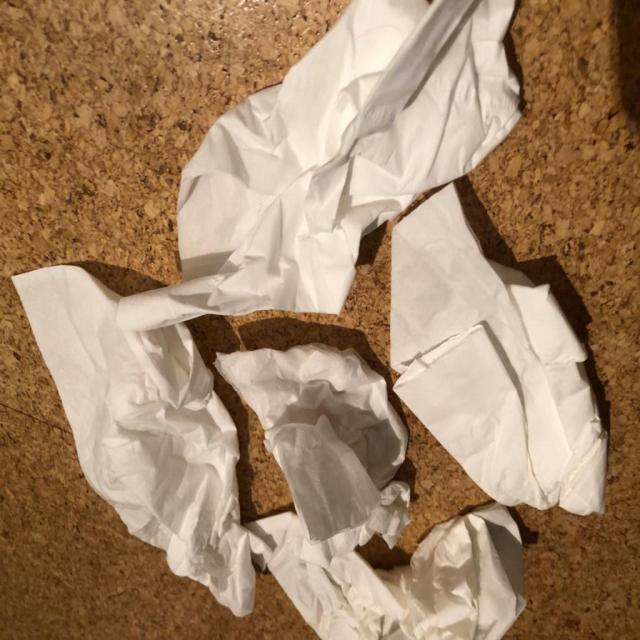kitchen paper: (116, 0, 526, 329), (11, 258, 254, 621), (388, 179, 614, 521), (238, 502, 527, 640), (212, 344, 406, 544)
